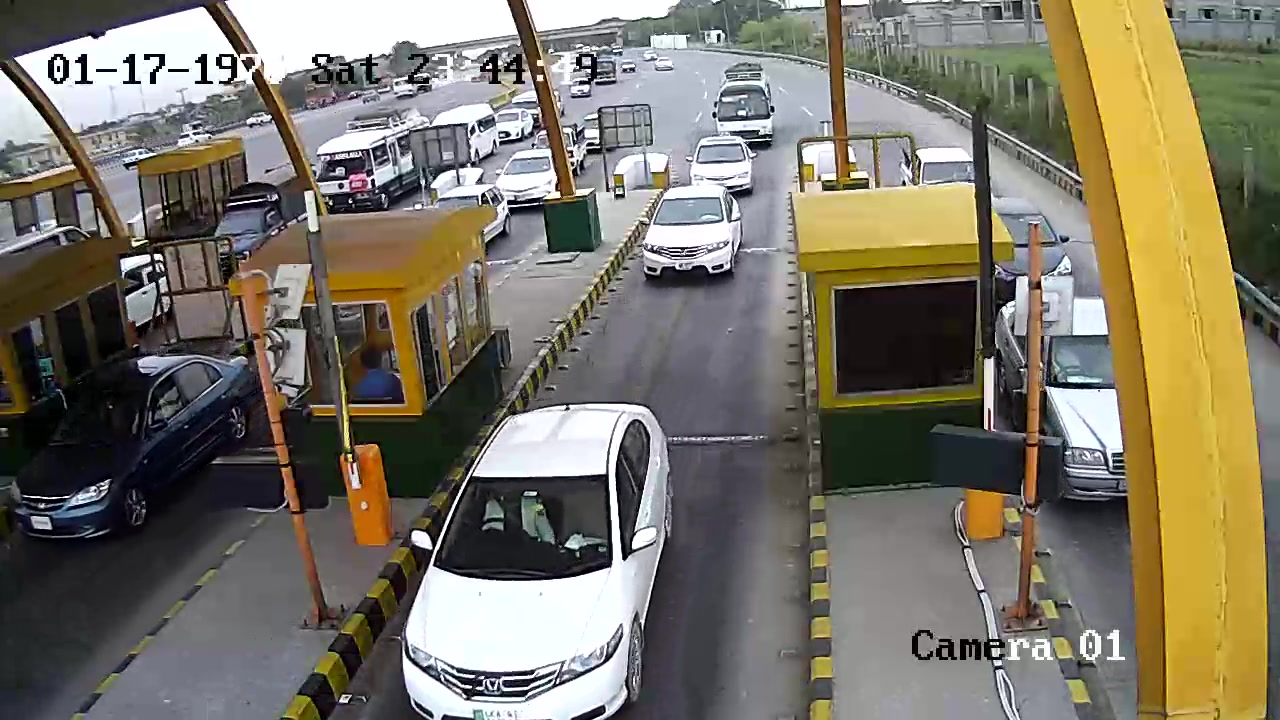F1: (390, 396, 709, 718)
